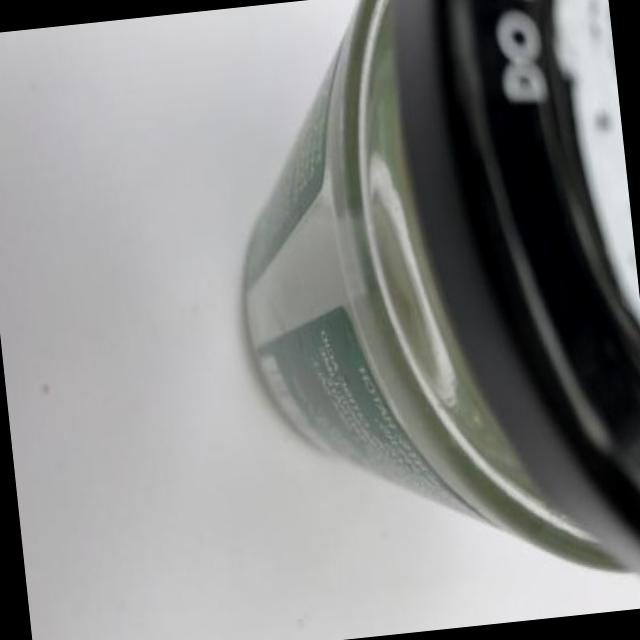chai_thuy_tinh: (237, 0, 640, 581)
